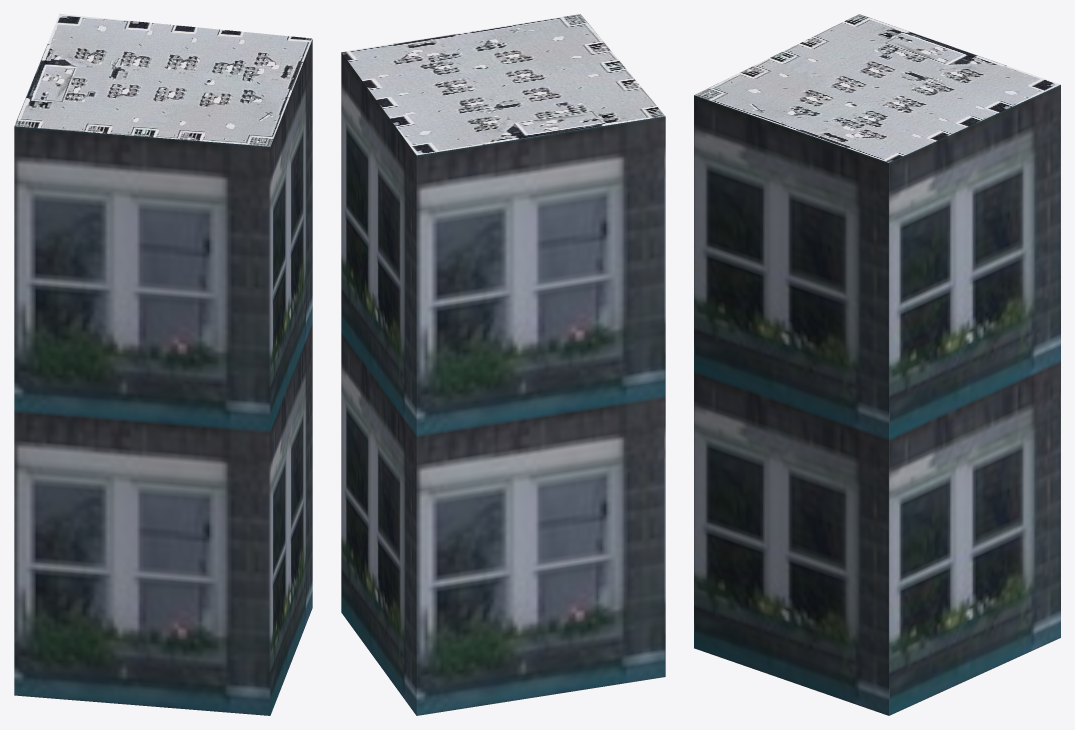
Rendered from ResTex__871.fbx.
The picture shows the model from 3 angles, left to right: view 1: azimuth 30°, elevation 25°; view 2: azimuth 150°, elevation 25°; view 3: azimuth 270°, elevation 25°; orthographic projection. The views are drawn at different scales.
Visible parts, largest first — view 1: CityEngineMaterial_11_m, CityEngineMaterial_8_m; view 2: CityEngineMaterial_11_m, CityEngineMaterial_8_m; view 3: CityEngineMaterial_11_m, CityEngineMaterial_8_m.
Part boxes in pixels (x1,y1,x2,y2): CityEngineMaterial_11_m: (14, 39, 312, 715); CityEngineMaterial_8_m: (14, 14, 312, 146); CityEngineMaterial_11_m: (341, 52, 665, 715); CityEngineMaterial_8_m: (341, 14, 664, 155); CityEngineMaterial_11_m: (694, 85, 1060, 715); CityEngineMaterial_8_m: (694, 14, 1060, 162).
Size of the model in its own units: 3.46 by 6 by 3.61.
2 materials, 2 textured.
